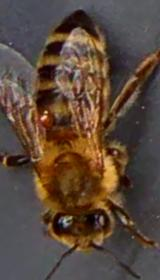varroa_mite: (36, 104, 56, 132)
